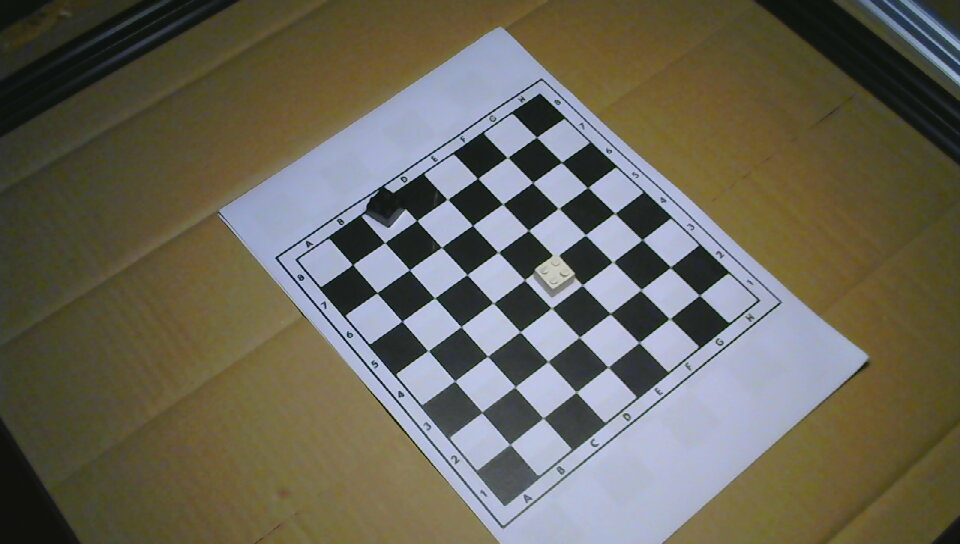bp: (366, 188, 407, 229)
wp: (532, 253, 575, 298)
